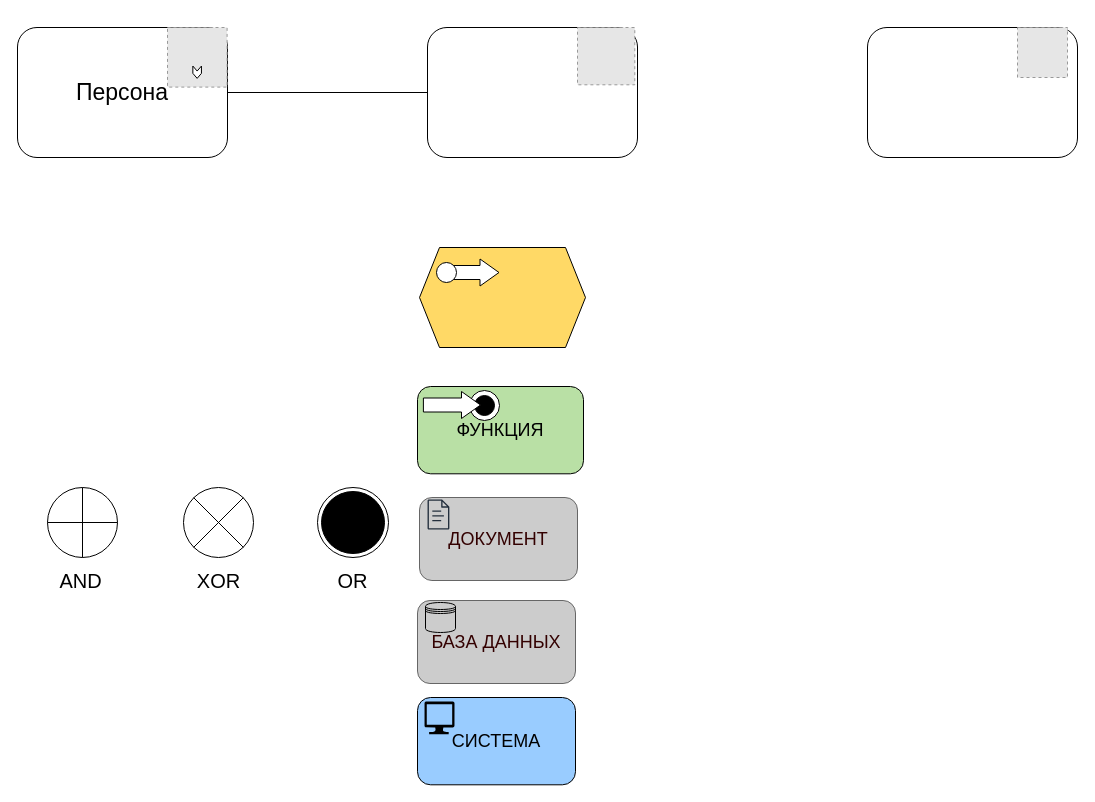
Some shapes in this 1095 by 802 pixel diagram are drawn without their labels. Grey dashed boxes stand in for pictures. Here are the shapes that lost their labels. From the top down, the box of each, then its label:
(426, 26, 638, 158): Роль
(866, 26, 1078, 158): Оргннизационная единица
(418, 246, 586, 348): СОБЫТИЕ
